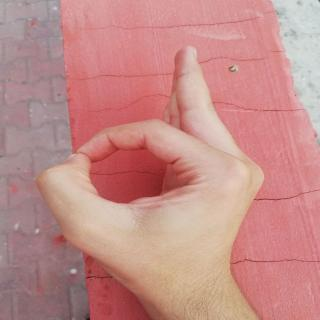Space: (36, 42, 276, 280)
